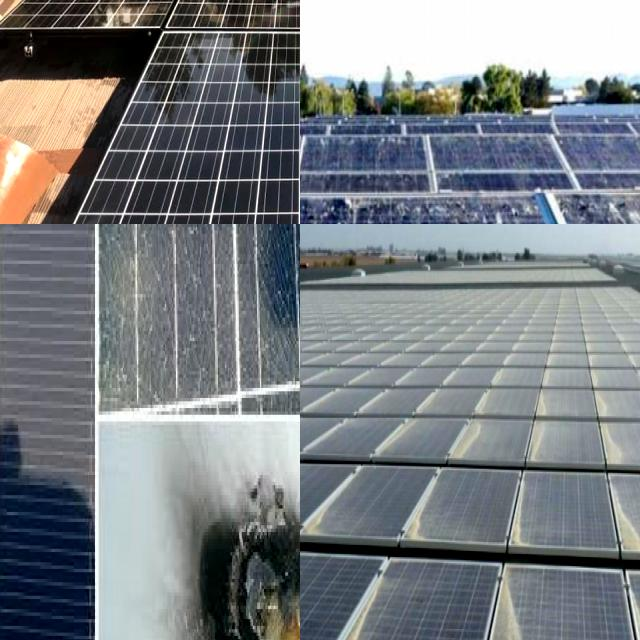bird: (427, 205, 551, 224), (611, 202, 640, 224)
crack: (25, 32, 300, 224), (0, 0, 209, 55), (160, 0, 300, 66)
dust: (503, 403, 588, 557), (404, 417, 492, 555), (300, 561, 448, 640), (300, 404, 378, 544), (462, 571, 603, 640), (454, 311, 559, 390), (336, 311, 432, 390), (600, 424, 640, 555), (591, 311, 640, 409), (300, 420, 340, 521), (300, 304, 350, 384), (300, 558, 344, 640)
shadow: (179, 471, 300, 640), (0, 266, 37, 463), (213, 224, 298, 297)
